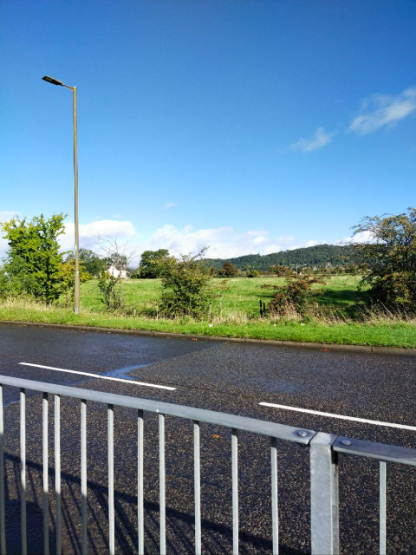tree: (158, 240, 230, 324), (8, 213, 71, 308)
